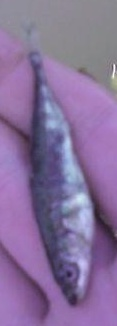Gasterosteus aculeatus: (20, 20, 97, 306)
